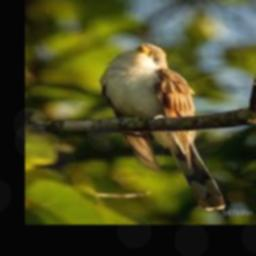Cuckoo: (101, 43, 224, 211)
